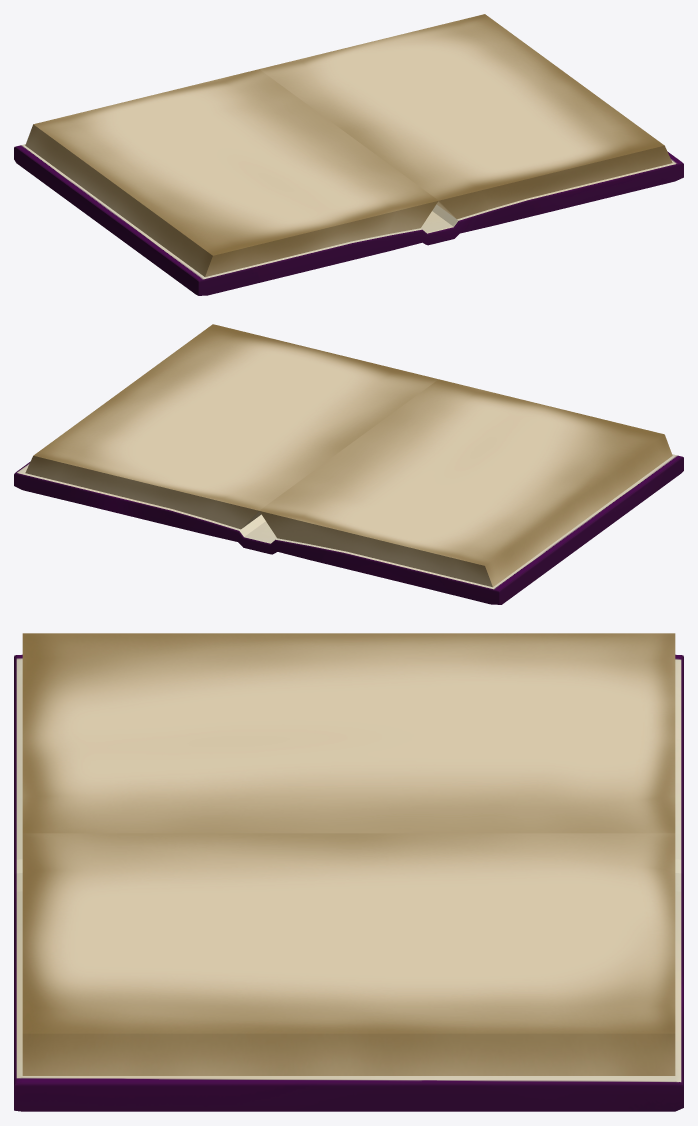
The model's file is Re_book.fbx.
3 views of the same model, one above another, from view 1: azimuth 30°, elevation 25°; view 2: azimuth 150°, elevation 25°; view 3: azimuth 270°, elevation 25° (orthographic). The views are drawn at different scales.
Parts seen in each view (by area): view 1: pCube4; view 2: pCube4; view 3: pCube4.
Part boxes in pixels (x1,y1,x2,y2): pCube4: (14, 14, 683, 295); pCube4: (14, 324, 683, 604); pCube4: (14, 633, 683, 1111).
Bounding box in the file's own units: 28.88 × 2.31 × 19.01.
